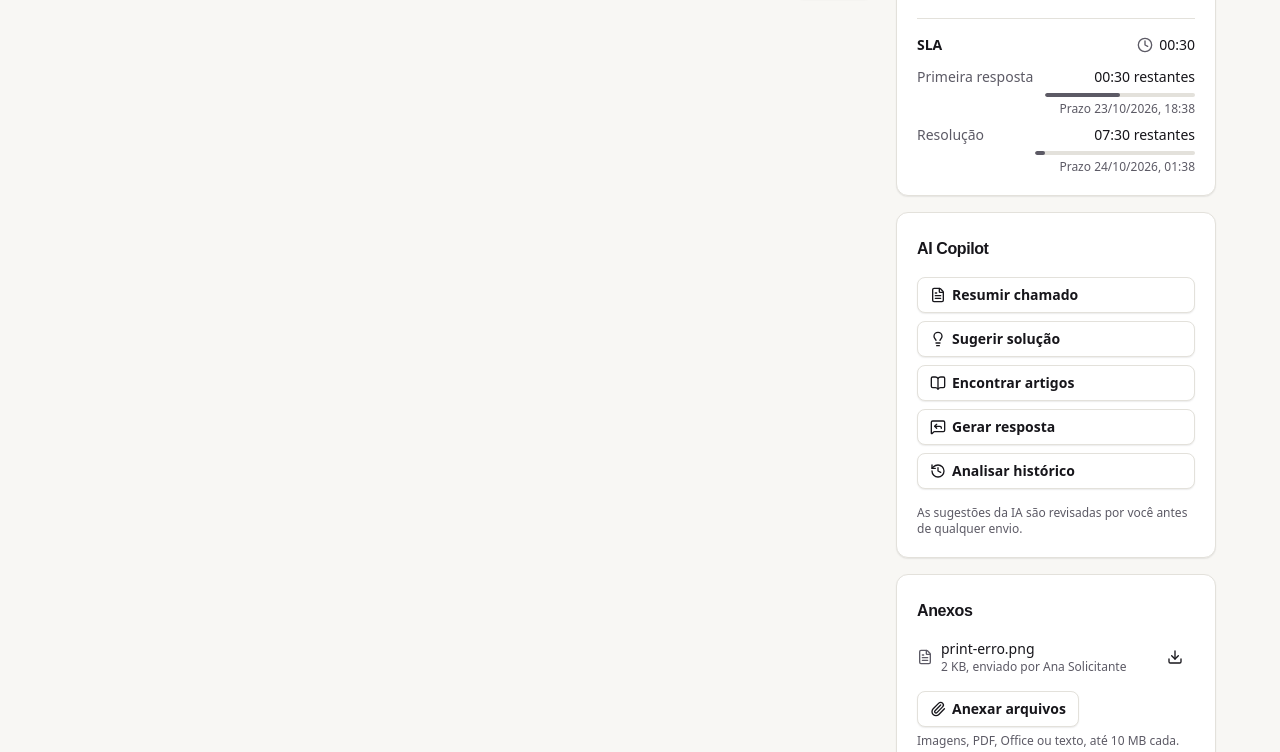
Test case: TicketDetailsPage › Copilot gera rascunho editável e só o leva para a resposta, sem enviar
(page scrolled)
Click the button "Gerar resposta" at (1056, 427), box [917,409,1195,445]
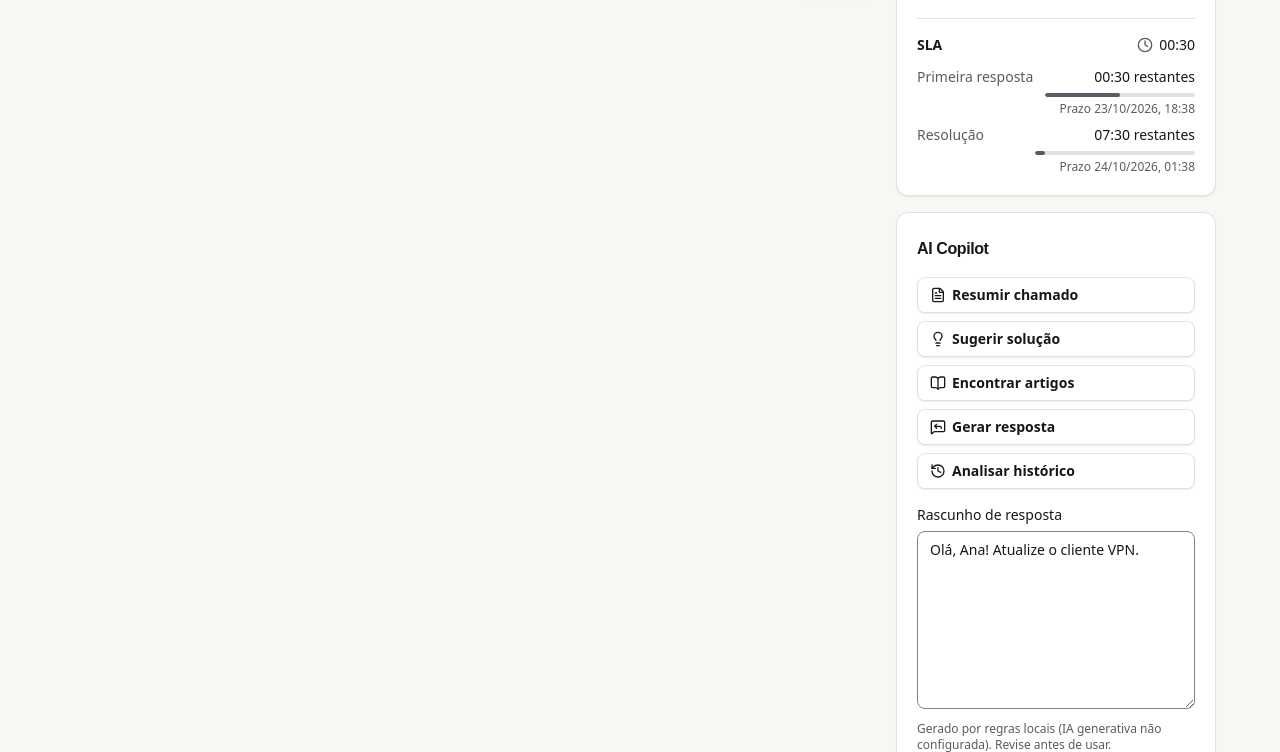
Type " Abraço." into the text box labelled "Rascunho de resposta" at (1056, 620), box [917,531,1195,709]
(page scrolled)
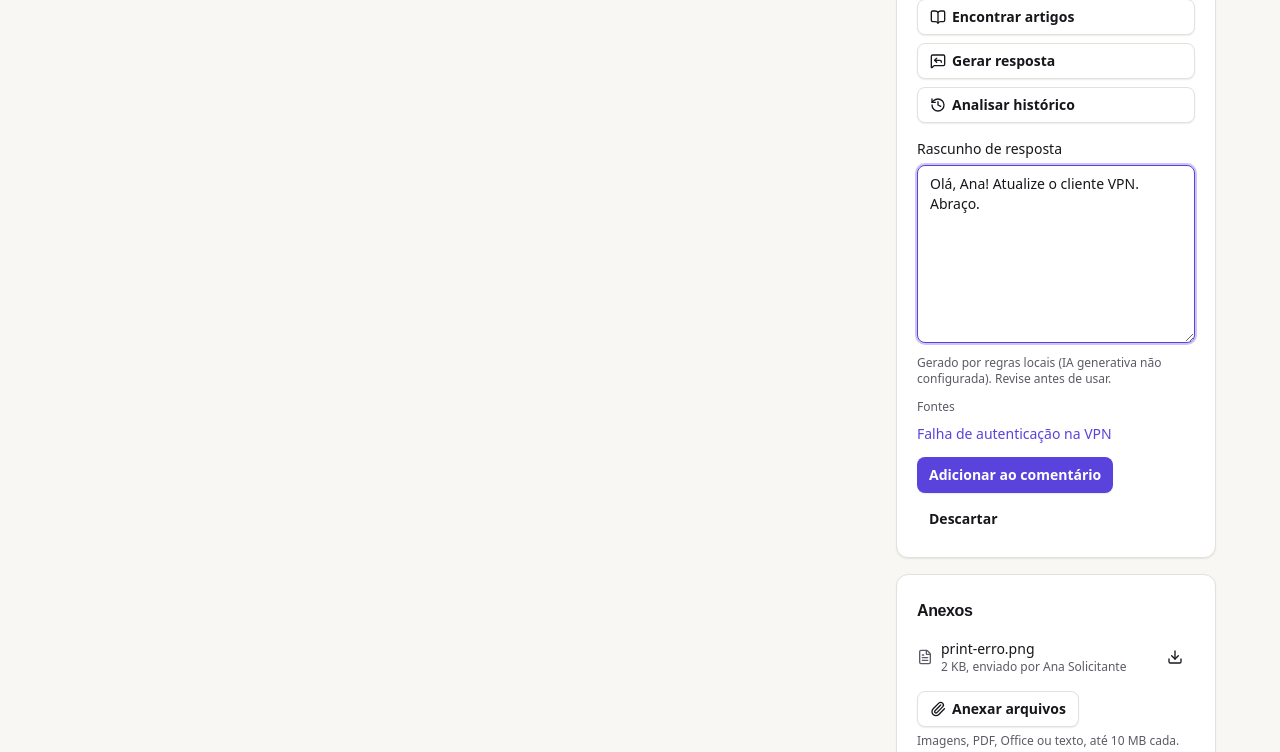
Click the button "Adicionar ao comentário" at (1015, 475), box [917,457,1113,493]
(page scrolled)
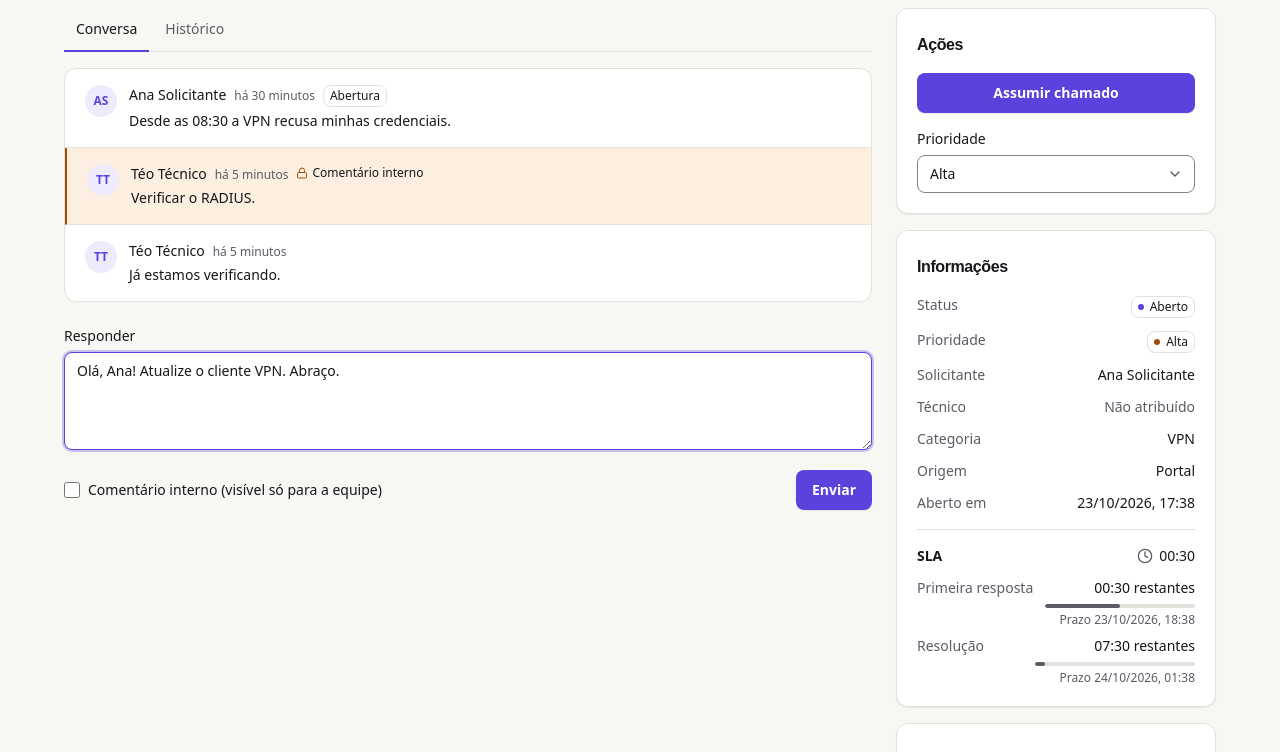
Expected: the text box labelled "Responder" holds "Olá, Ana! Atualize o cliente VPN. Abraço.", [64,352,872,450]
